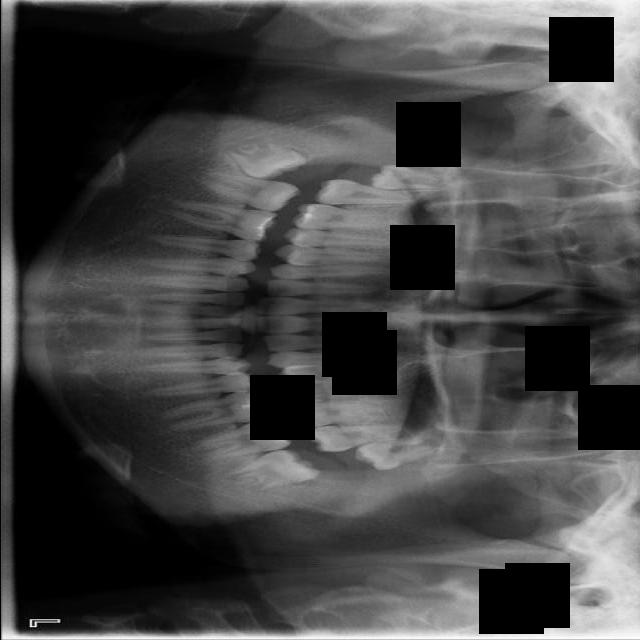3M ESPE Implant: (371, 164, 457, 189)
52: (237, 406, 293, 464), (221, 382, 272, 433), (228, 205, 277, 244), (290, 200, 339, 233)
BioHorizons Implant: (307, 422, 407, 453)
BioLife Implant: (352, 424, 448, 478)
Biomet 3i Implant: (216, 442, 321, 499)
Blue Sky Bio Implant: (185, 415, 293, 465)
Caries: (313, 177, 418, 207)
Implant: (195, 166, 301, 218)
Keystone Dental Implant: (215, 122, 307, 195)
